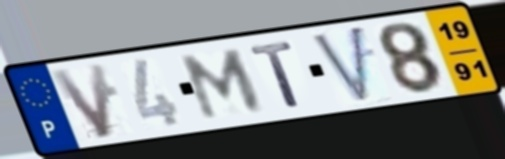4: (132, 56, 182, 130)
8: (376, 19, 446, 96)
M: (179, 46, 267, 123)
T: (246, 38, 304, 111)
V: (46, 60, 115, 142), (307, 22, 372, 107)
